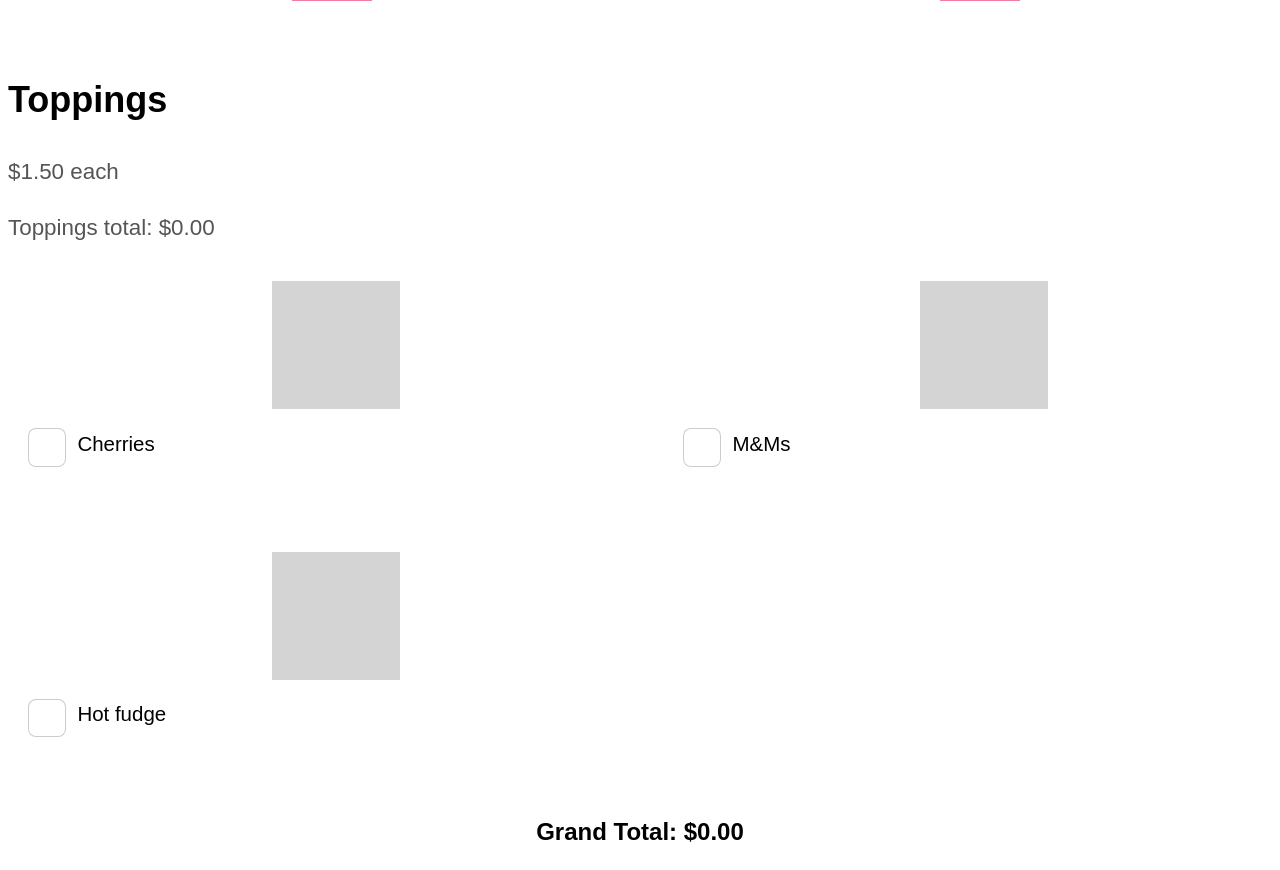
Test: Total updates › grand total updates properly if topping is added first
(page scrolled)
Click the checkbox named "M&Ms" at (702, 447), box [683, 428, 722, 466]
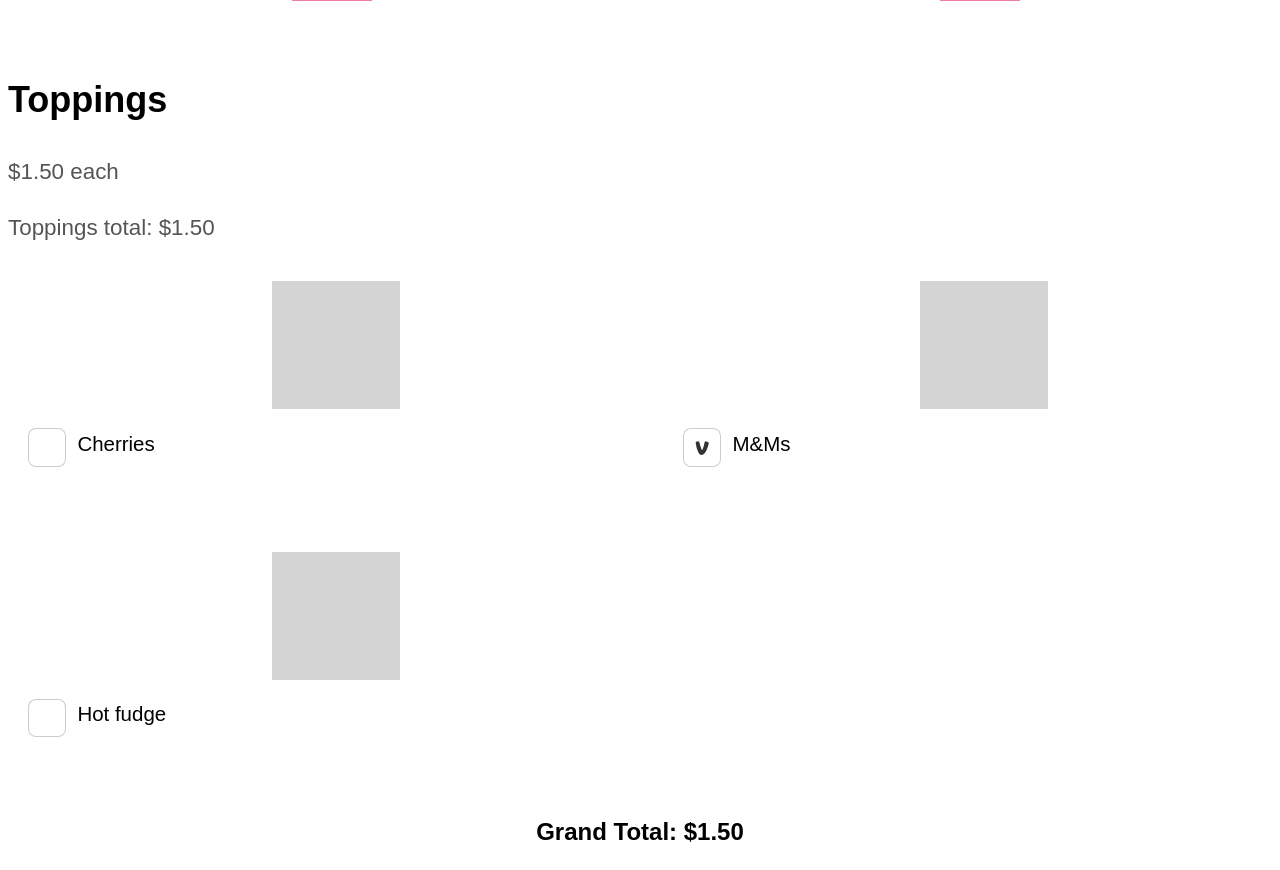
Expected: the heading "Grand Total: $1.50" is shown, [536, 818, 744, 846]
Click the checkbox named "Hot fudge" at (47, 718), box [28, 698, 66, 737]
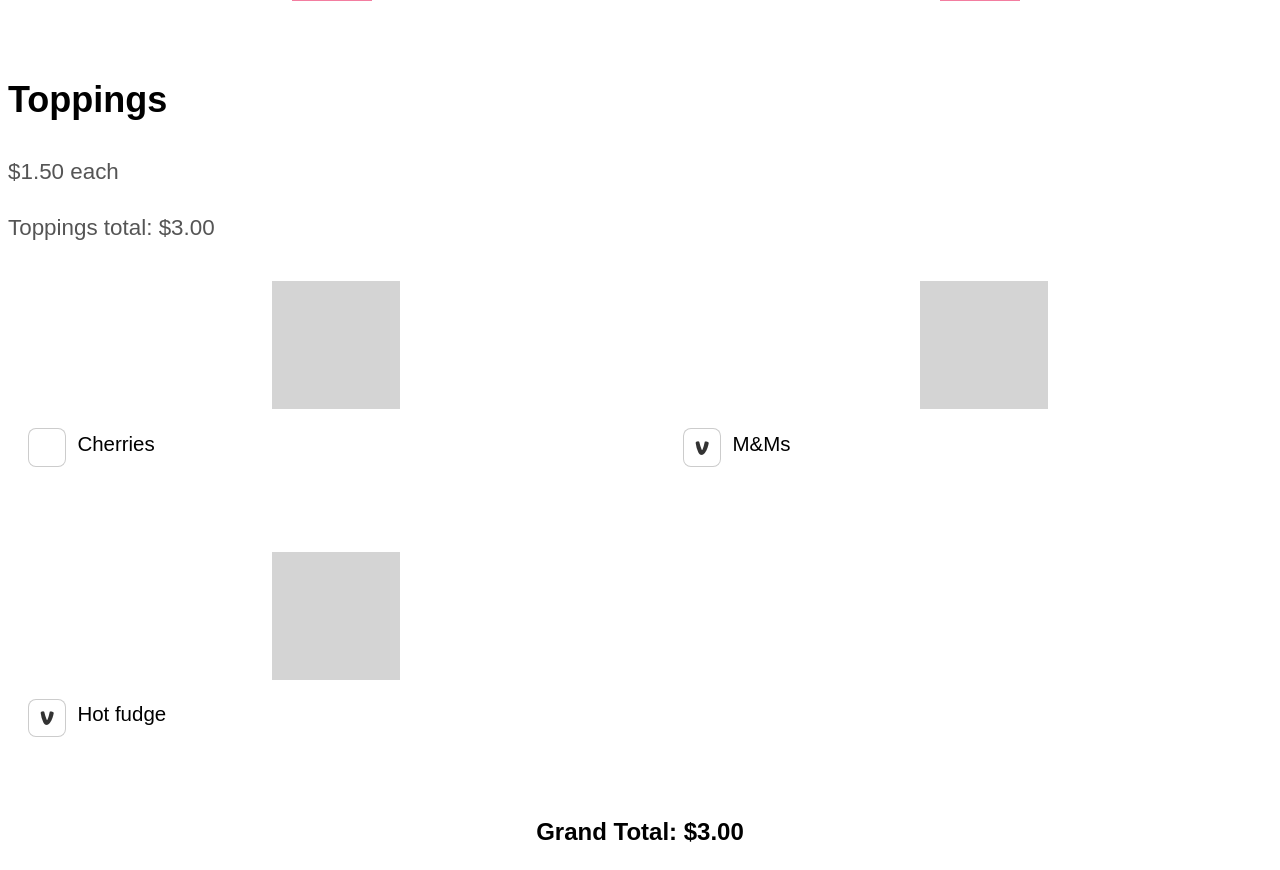
Expected: the heading "Grand Total: $3.00" is shown, [536, 818, 744, 846]
